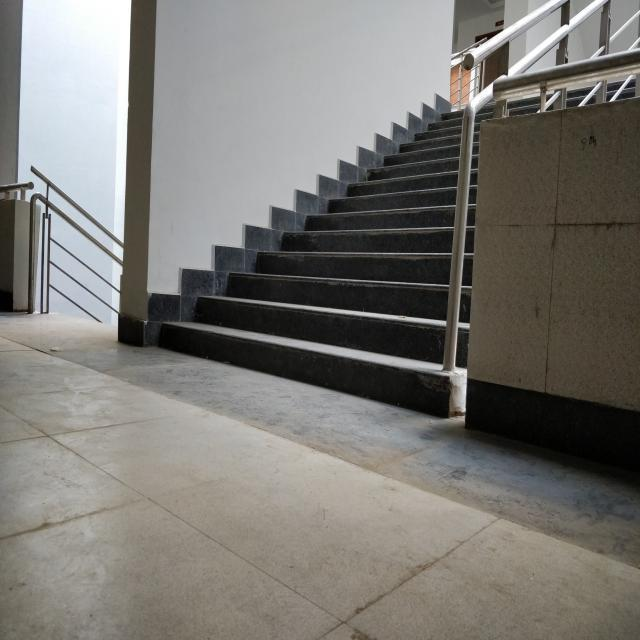stair: (171, 146, 472, 405)
